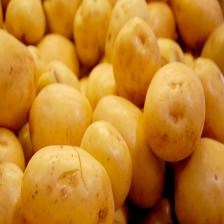Potato: (90, 92, 167, 214), (141, 59, 208, 166), (27, 82, 95, 164), (76, 121, 134, 211), (112, 16, 162, 116)
